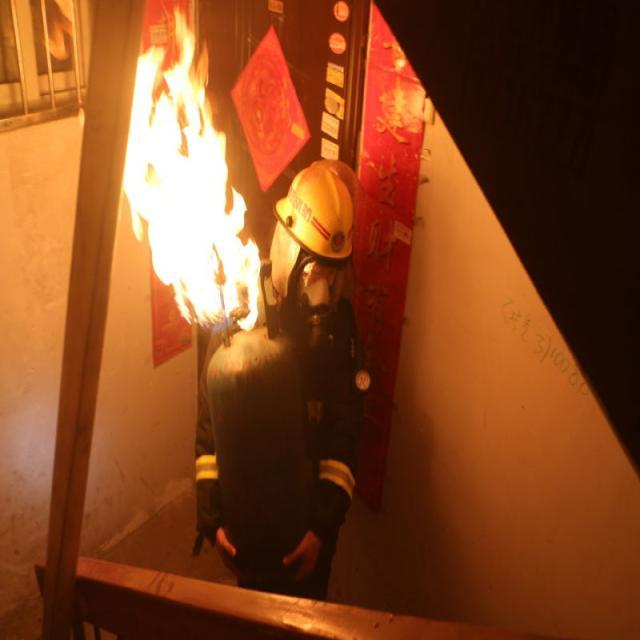Fire: (120, 8, 262, 332)
